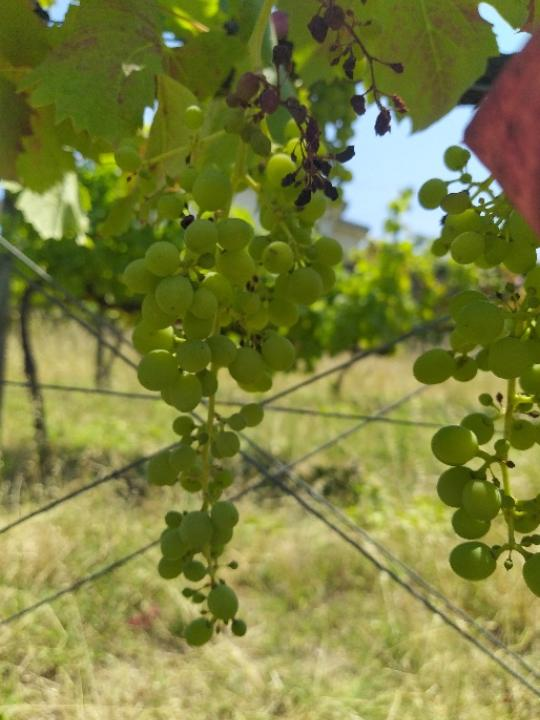grape: (99, 203, 345, 649), (413, 143, 540, 609), (225, 0, 412, 212)
